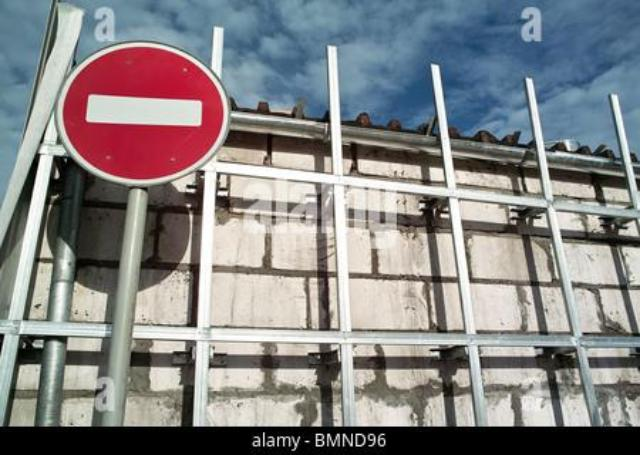B2: (54, 38, 230, 188)
